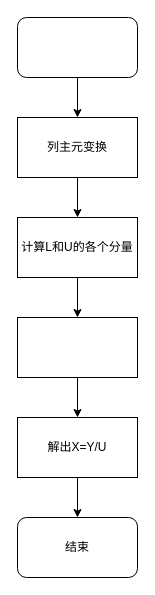
Some shapes in this 155 by 595 pixel diagram are drawn without their labels. The shapes that lost their labels are listed below. From the top down, each one's centre as x and y in pixels, then its label:
At pixel 77 47: "开始".
At pixel 77 347: "解出Y=B/L".
